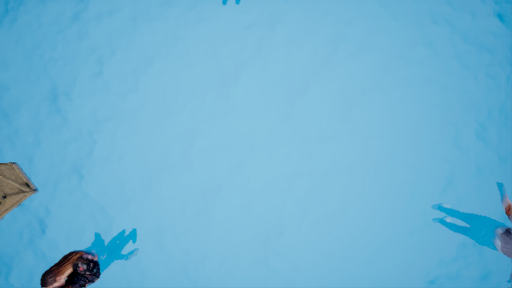person: (38, 221, 146, 288)
